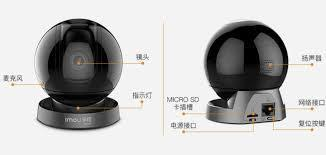maru: (29, 14, 130, 132)
